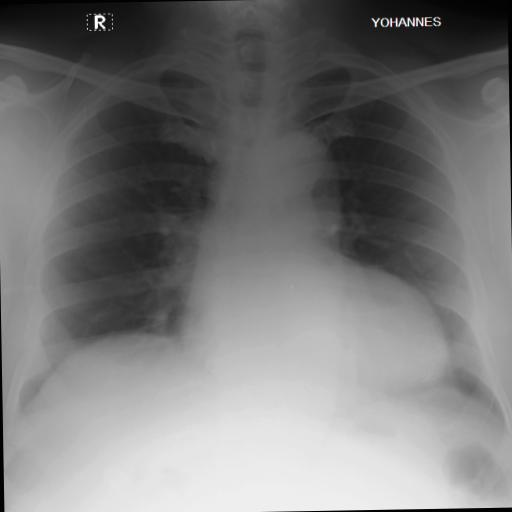kardiomegali: (4, 37, 510, 435)
